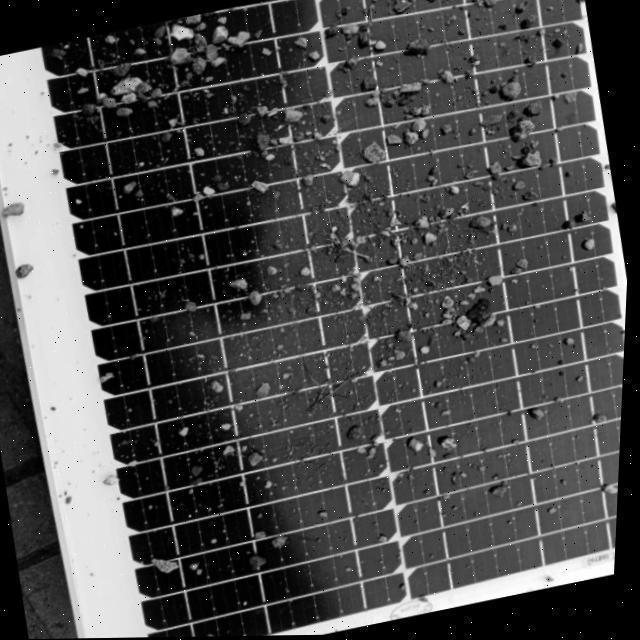Surface Contaminant: (22, 0, 630, 638)
